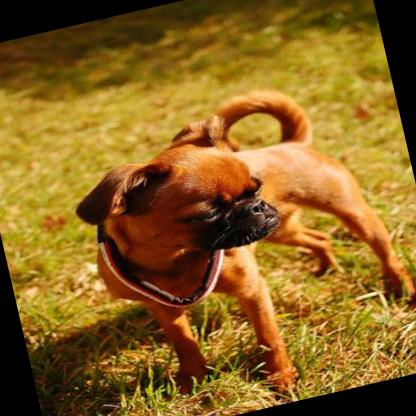Brabancon_griffon: (56, 61, 416, 416)
